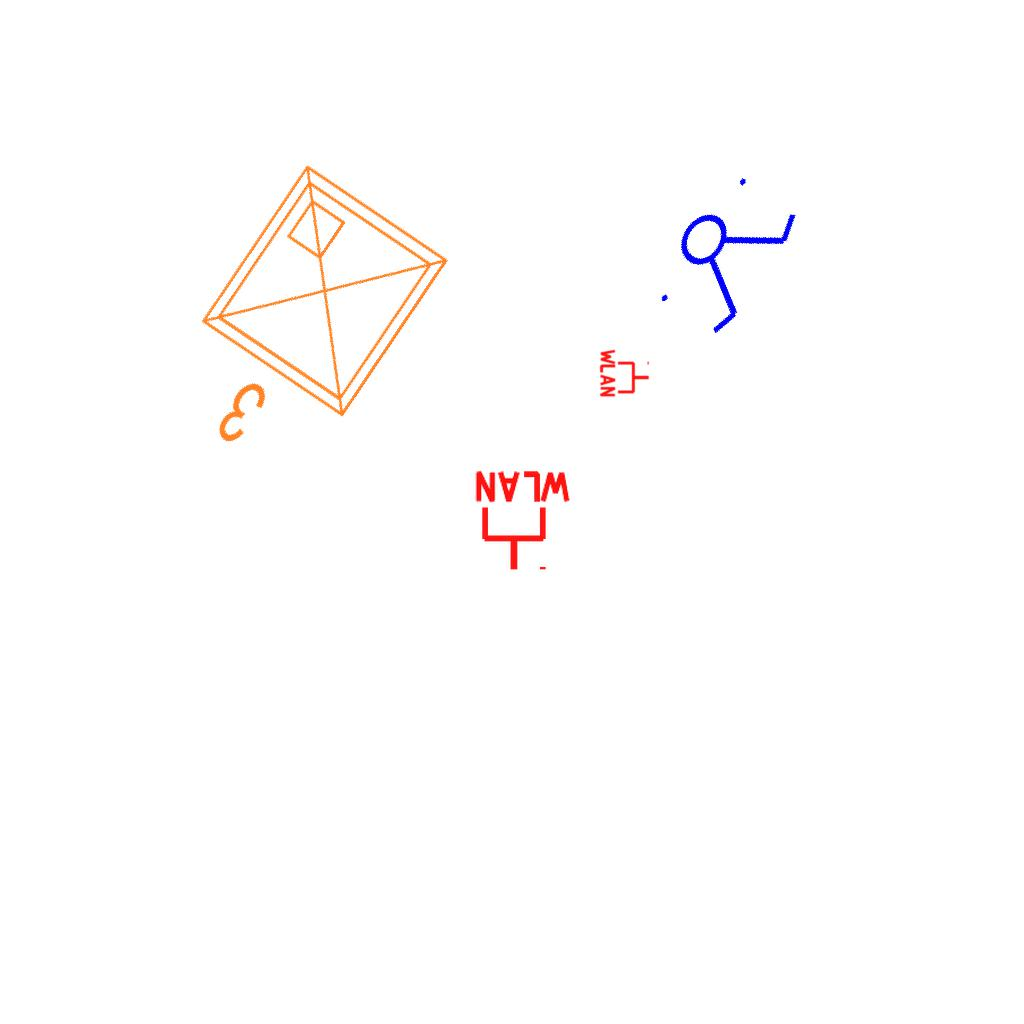Einbaudownlights_LED_Konferenzraeume: (134, 144, 476, 510)
Serienschalter: (639, 156, 813, 350)
WLAN: (471, 469, 575, 574), (599, 347, 651, 399)
